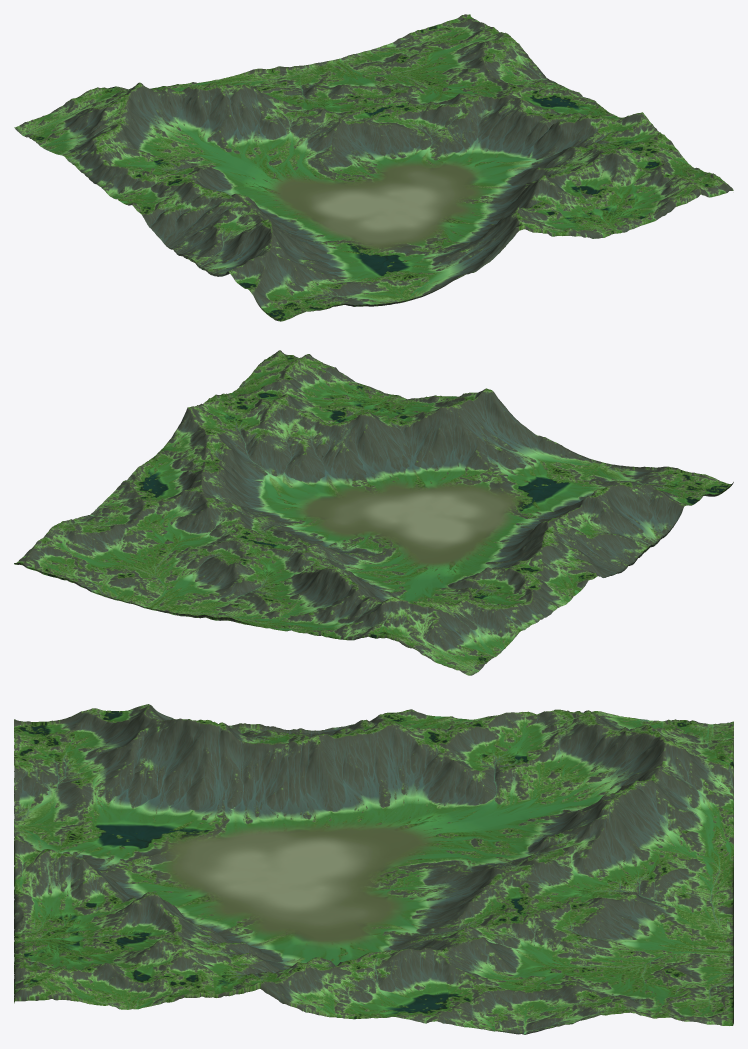
File: sm_terrain.fbx
3 renders of one model, top to bottom at view 1: azimuth 30°, elevation 25°; view 2: azimuth 150°, elevation 25°; view 3: azimuth 270°, elevation 25°, orthographic. The views are drawn at different scales.
Parts seen in each view (by area): view 1: SM_Terrain; view 2: SM_Terrain; view 3: SM_Terrain.
Boxes of the visible parts, x1,y1,x2,y2 form: SM_Terrain: (14,14,733,321); SM_Terrain: (14,350,733,675); SM_Terrain: (14,704,733,1034).
Size of the model in its own units: 76833 by 7788 by 76826.
